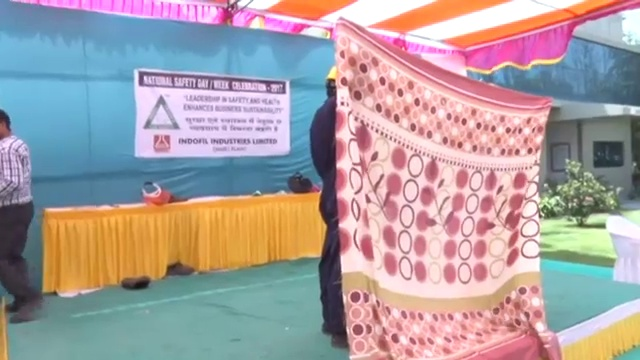helmet_off: (1, 108, 16, 138)
person: (310, 63, 352, 351), (1, 106, 41, 327)
